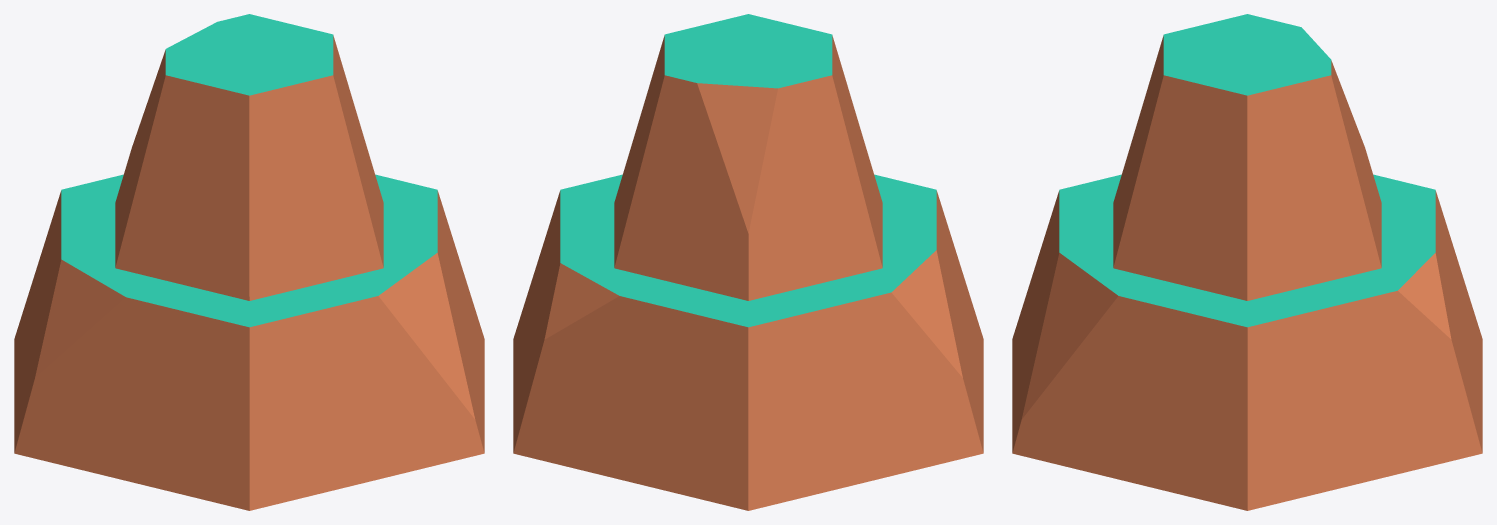
Rendered from rock_smallF.fbx.
The picture shows the model from 3 angles, left to right: view 1: azimuth 30°, elevation 25°; view 2: azimuth 150°, elevation 25°; view 3: azimuth 270°, elevation 25°; orthographic projection.
Parts seen in each view (by area): view 1: rock_smallF; view 2: rock_smallF; view 3: rock_smallF.
Boxes of the visible parts, x1,y1,x2,y2 form: rock_smallF: (14,14,484,510); rock_smallF: (513,14,983,510); rock_smallF: (1012,14,1482,510).
Bounding box in the file's own units: 3.54 × 2.45 × 3.06.
